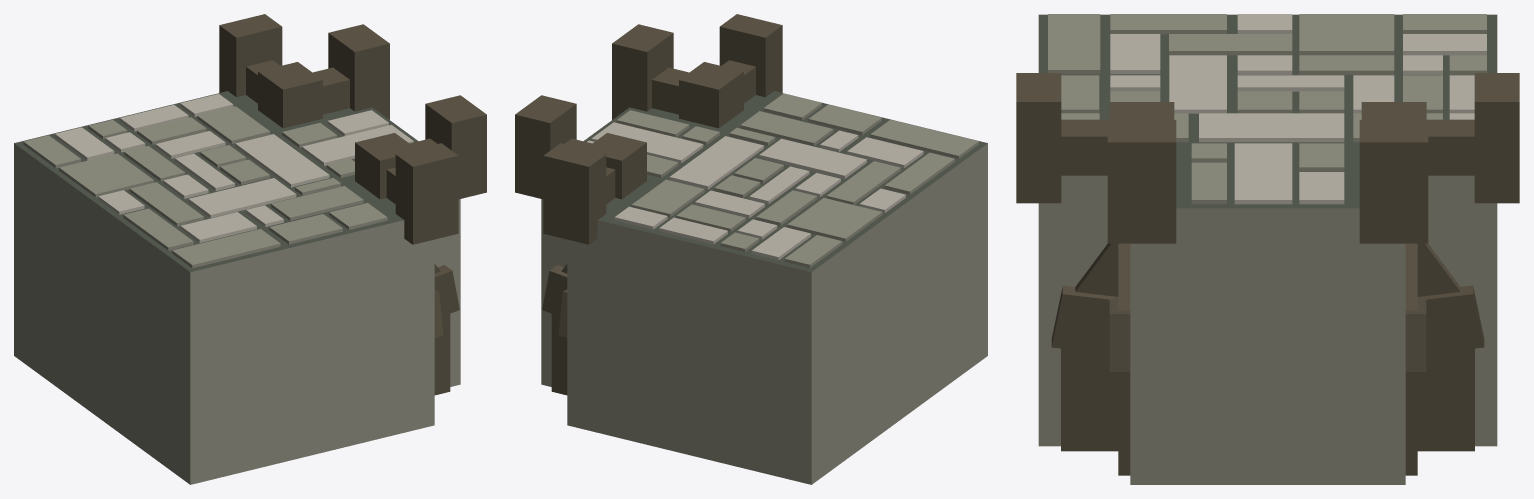
The model's file is ThreeWayHalfFilled.fbx.
3 views of the same model, side by side, from view 1: azimuth 30°, elevation 25°; view 2: azimuth 150°, elevation 25°; view 3: azimuth 270°, elevation 25° (orthographic). The views are drawn at different scales.
Visible parts, largest first — view 1: Stone Bridge - Three-way Half Filled; view 2: Stone Bridge - Three-way Half Filled; view 3: Stone Bridge - Three-way Half Filled.
Boxes of the visible parts, box(x1,y1,x2,y2) form: Stone Bridge - Three-way Half Filled: box(14, 14, 486, 484); Stone Bridge - Three-way Half Filled: box(515, 14, 987, 484); Stone Bridge - Three-way Half Filled: box(1016, 14, 1519, 484).
Bounding box in the file's own units: 106 × 85.16 × 110.
